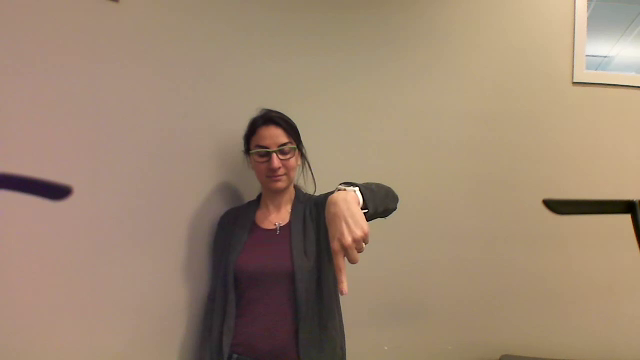down: (314, 174, 385, 311)
